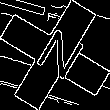N_SW: (25, 23, 85, 87)
